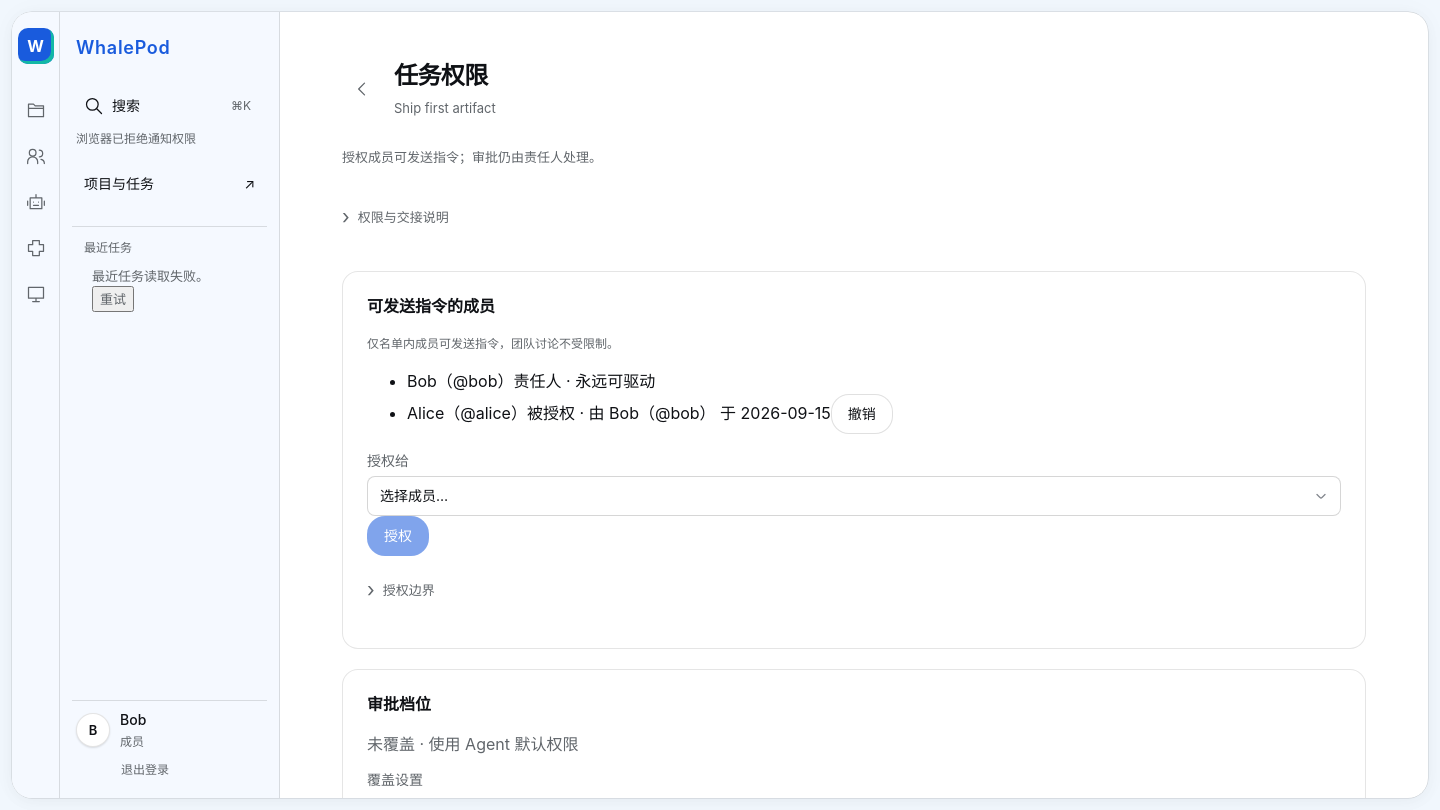
it: 任务权限页（⑥e） › 责任人能撤销被授权成员：请求走 DELETE，且撤销后那一行真的从名单上消失
Click the button with test id "driver-revoke": (862, 414) [831,394,893,434]
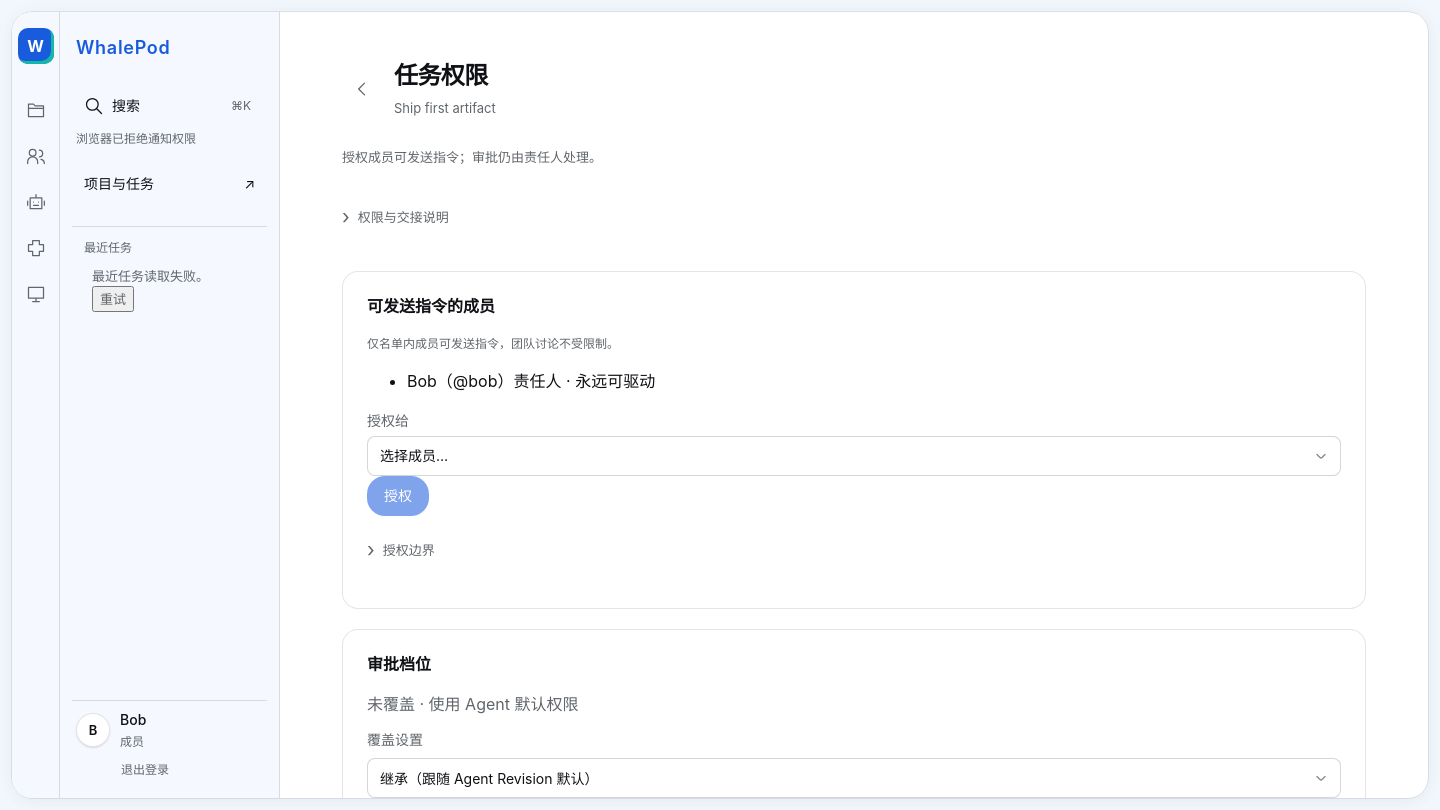
Expected: the text "Alice" is gone
